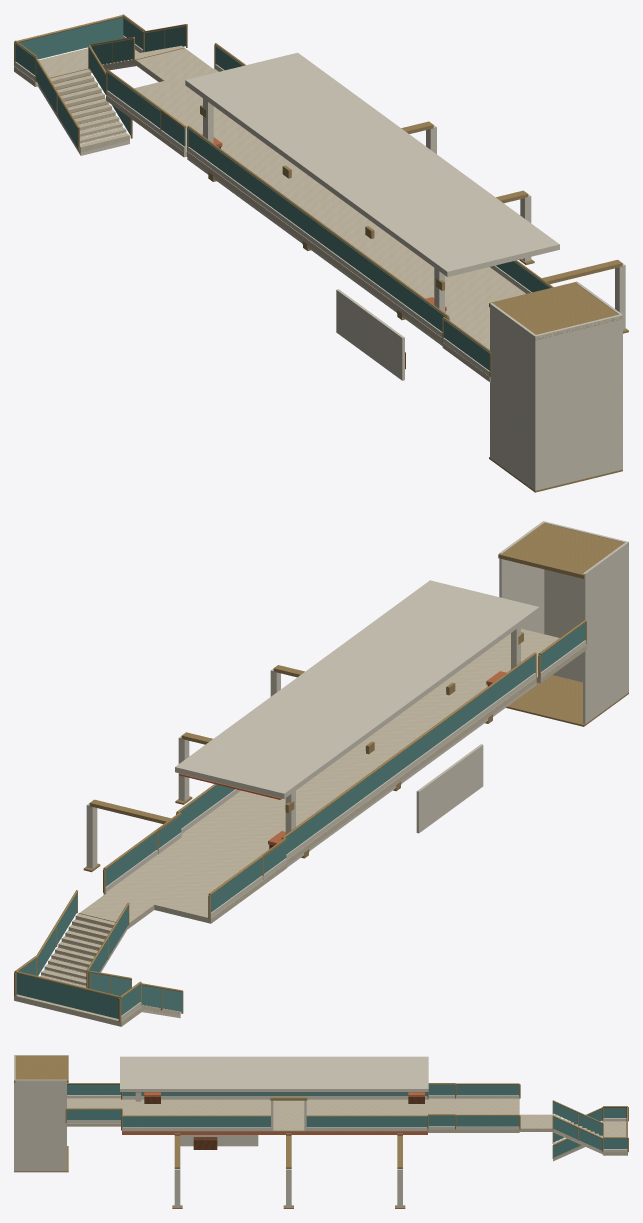
The model's file is AST-TRM-G4-020_foremid_north_candidate.glb.
3 views of the same model, one above another, from view 1: azimuth 30°, elevation 25°; view 2: azimuth 150°, elevation 25°; view 3: azimuth 270°, elevation 25° (orthographic). The views are drawn at different scales.
Parts seen in each view (by area): view 1: N005_V2__Canopy_Profiled_Crown, N005_V2__BoardingLift_Rear, N005_V2__Boarding_Island_24m, N005_V2__BoardingLift_HousingSide_-7.7, N005_V2__Port_Edge_infill, N005_V2__BoardingLift_Header, N005_V2__Guest_Waiting_Screen, N005_V2__Emergency_TopApproach, N005_V2__Emergency_MidLanding_NorthInfill, N005_V2__Port_Edge_foot, N005_V2__Emergency_UpperLanding, N005_V2__Emergency_MidLanding (+10 smaller); view 2: N005_V2__Canopy_Profiled_Crown, N005_V2__Boarding_Island_24m, N005_V2__BoardingLift_HousingSide_-7.7, N005_V2__Emergency_TopApproach, N005_V2__Port_Edge_infill, N005_V2__BoardingLift_Header, N005_V2__BoardingLift_Rear, N005_V2__Guest_Waiting_Screen, N005_V2__BoardingLift_PitPan, N005_V2__BoardingLift_HousingSide_-3.5, N005_V2__Emergency_MidLanding_NorthInfill, N005_StairUpperReturn (+15 smaller); view 3: N005_V2__Canopy_Profiled_Crown, N005_V2__Boarding_Island_24m, N005_V2__BoardingLift_HousingSide_-3.5, N005_V2__Tram_SouthGuard_infill, N005_V2__Tram_NorthGuard_infill, N005_V2__Emergency_TopApproach, N005_V2__Port_Edge_infill, N005_V2__BoardingLift_Header, N005_V2__Platform_InnerFascia, N005_V2__Port_Edge_foot, N005_V2__BoardingLift_UpperLanding, N005_V2__Guest_Waiting_Screen (+23 smaller).
Boxes of the visible parts, bbox=[...] form: N005_V2__Canopy_Profiled_Crown: bbox=[185, 52, 559, 276]; N005_V2__BoardingLift_Rear: bbox=[534, 314, 622, 490]; N005_V2__Boarding_Island_24m: bbox=[187, 135, 525, 343]; N005_V2__BoardingLift_HousingSide_-7.7: bbox=[490, 303, 535, 489]; N005_V2__Port_Edge_infill: bbox=[188, 128, 446, 331]; N005_V2__BoardingLift_Header: bbox=[489, 281, 622, 340]; N005_V2__Guest_Waiting_Screen: bbox=[336, 289, 404, 380]; N005_V2__Emergency_TopApproach: bbox=[106, 68, 229, 139]; N005_V2__Emergency_MidLanding_NorthInfill: bbox=[15, 17, 123, 61]; N005_V2__Port_Edge_foot: bbox=[187, 147, 442, 337]; N005_V2__Emergency_UpperLanding: bbox=[136, 48, 212, 81]; N005_V2__Emergency_MidLanding: bbox=[14, 48, 139, 86]; N005_V2__Canopy_Profiled_Crown: bbox=[175, 580, 539, 798]; N005_V2__Boarding_Island_24m: bbox=[181, 661, 536, 864]; N005_V2__BoardingLift_HousingSide_-7.7: bbox=[583, 542, 627, 724]; N005_V2__Emergency_TopApproach: bbox=[103, 854, 263, 923]; N005_V2__Port_Edge_infill: bbox=[285, 655, 535, 854]; N005_V2__BoardingLift_Header: bbox=[498, 523, 628, 578]; N005_V2__BoardingLift_Rear: bbox=[542, 521, 628, 692]; N005_V2__Guest_Waiting_Screen: bbox=[416, 744, 483, 833]; N005_V2__BoardingLift_PitPan: bbox=[506, 675, 628, 726]; N005_V2__BoardingLift_HousingSide_-3.5: bbox=[499, 522, 544, 633]; N005_V2__Emergency_MidLanding_NorthInfill: bbox=[16, 973, 118, 1018]; N005_StairUpperReturn: bbox=[159, 837, 286, 884]; N005_V2__Canopy_Profiled_Crown: bbox=[120, 1056, 428, 1091]; N005_V2__Boarding_Island_24m: bbox=[122, 1099, 427, 1131]; N005_V2__BoardingLift_HousingSide_-3.5: bbox=[15, 1079, 66, 1171]; N005_V2__Tram_SouthGuard_infill: bbox=[122, 1116, 270, 1127]; N005_V2__Tram_NorthGuard_infill: bbox=[306, 1116, 427, 1127]; N005_V2__Emergency_TopApproach: bbox=[455, 1098, 519, 1132]; N005_V2__Port_Edge_infill: bbox=[122, 1092, 427, 1096]; N005_V2__BoardingLift_Header: bbox=[14, 1055, 68, 1082]; N005_V2__Platform_InnerFascia: bbox=[122, 1131, 427, 1134]; N005_V2__Port_Edge_foot: bbox=[122, 1096, 427, 1099]; N005_V2__BoardingLift_UpperLanding: bbox=[66, 1098, 121, 1126]; N005_V2__Guest_Waiting_Screen: bbox=[180, 1135, 258, 1146].
Size of the model in its own units: 11.21 by 7.3 by 44.22.
Materials: 6 (4 with a texture image).
